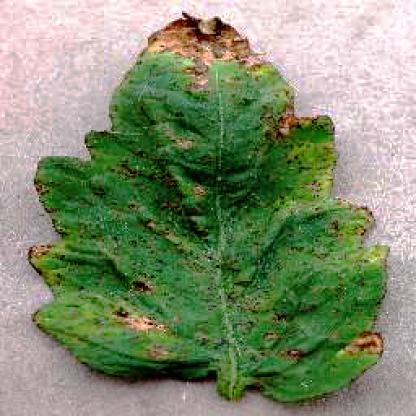BACTERIAL SPOT: (23, 8, 393, 405)
